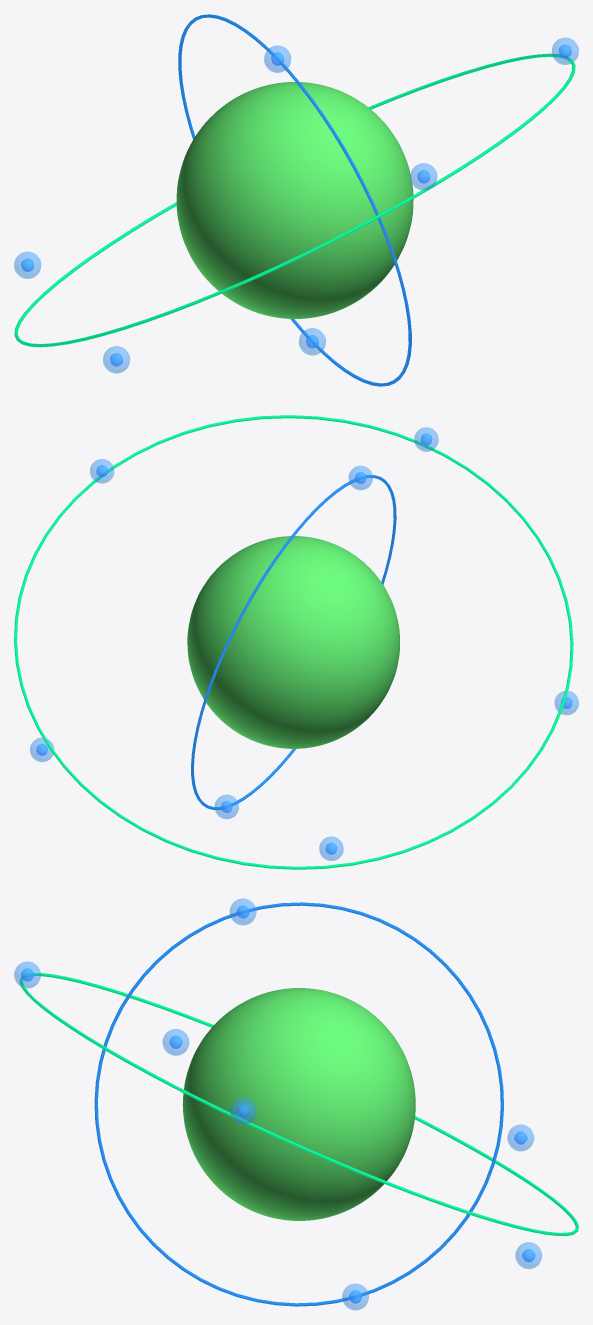
3 views of the same model, one above another, from view 1: azimuth 30°, elevation 25°; view 2: azimuth 150°, elevation 25°; view 3: azimuth 270°, elevation 25° (orthographic). The views are drawn at different scales.
Parts seen in each view (by area): view 1: N, object 7, object 2, object 10, object 16, object 8, object 3, object 5, object 14; view 2: N, object 7, object 2; view 3: N, object 2, object 7, object 10, object 3, object 8, object 5, object 14, object 12, object 16.
Boxes of the visible parts, bbox=[...] form: N: bbox=[176, 82, 413, 318]; object 7: bbox=[14, 53, 575, 347]; object 2: bbox=[178, 14, 411, 386]; object 10: bbox=[14, 251, 41, 278]; object 16: bbox=[410, 163, 437, 190]; object 8: bbox=[103, 346, 129, 373]; object 3: bbox=[264, 45, 291, 72]; object 5: bbox=[298, 328, 325, 355]; object 14: bbox=[551, 37, 578, 64]; N: bbox=[187, 536, 399, 748]; object 7: bbox=[14, 415, 573, 869]; object 2: bbox=[191, 475, 396, 809]; N: bbox=[182, 988, 415, 1220]; object 2: bbox=[94, 902, 503, 1306]; object 7: bbox=[19, 973, 578, 1235]; object 10: bbox=[507, 1124, 534, 1151]; object 3: bbox=[229, 898, 256, 925]; object 8: bbox=[162, 1029, 189, 1055]; object 5: bbox=[342, 1283, 368, 1310]; object 14: bbox=[230, 1098, 256, 1124]; object 12: bbox=[515, 1242, 542, 1268]; object 16: bbox=[14, 961, 40, 988].
Size of the model in its own units: 3.49 by 2.38 by 3.34.
